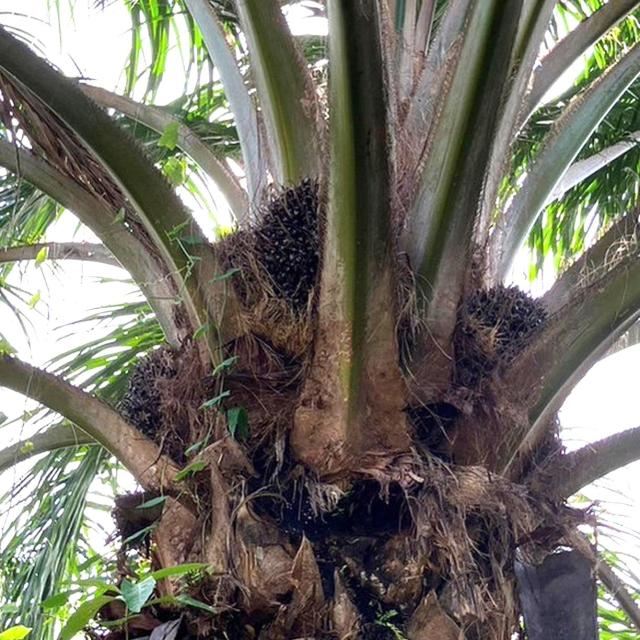unripe: (234, 165, 343, 322)
